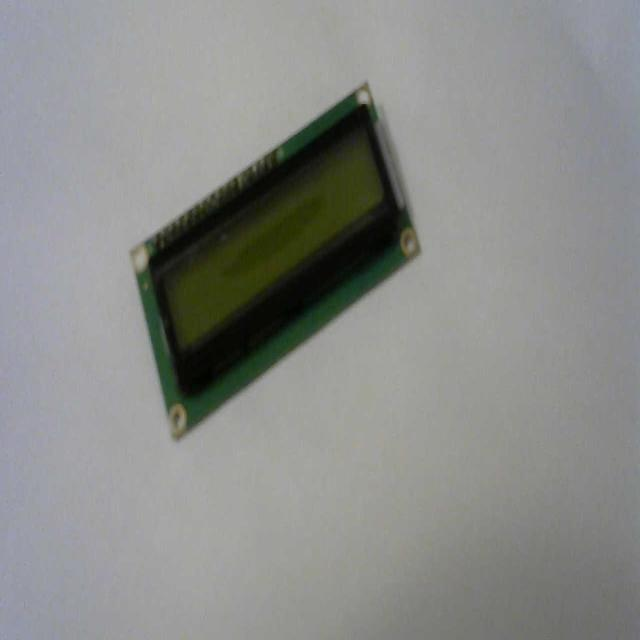lcd: (128, 78, 421, 440)
